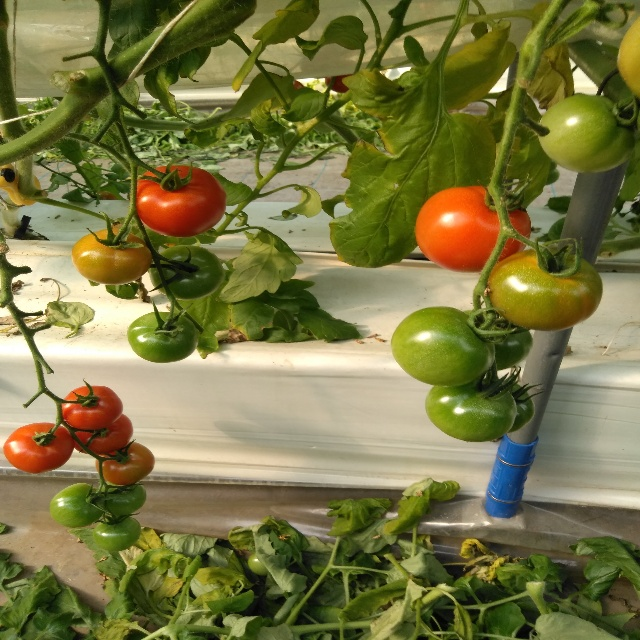l_fully_ripened: (413, 185, 531, 273), (130, 165, 227, 238), (3, 422, 74, 474), (61, 385, 123, 430), (69, 413, 134, 455)
l_green: (390, 306, 495, 387), (537, 93, 637, 173), (425, 378, 516, 442), (461, 308, 532, 372), (148, 244, 226, 301), (127, 312, 199, 363), (486, 378, 535, 433), (49, 483, 106, 527), (92, 515, 141, 552), (98, 481, 147, 516)
l_half_ripened: (489, 248, 604, 331), (71, 228, 153, 285), (94, 441, 155, 486)
